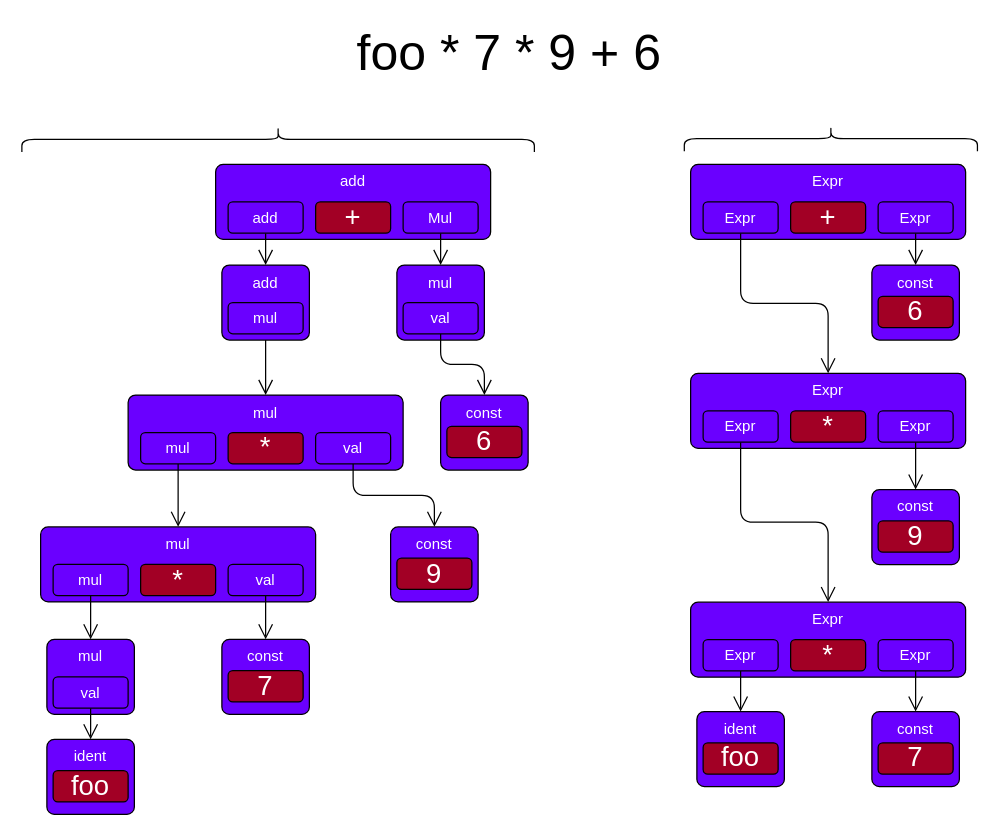
This 1000x836 diagram has some shape labels left out. Here are the shapes that lost their labels. From the top down, the box of each, then its label:
(21, 126, 534, 152): Parse Tree
(683, 125, 978, 151): Abstract Syntax Tree
